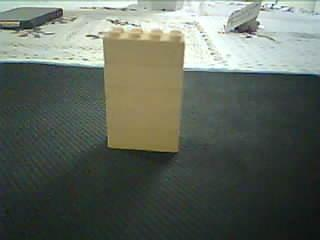lego: (100, 25, 186, 155)
